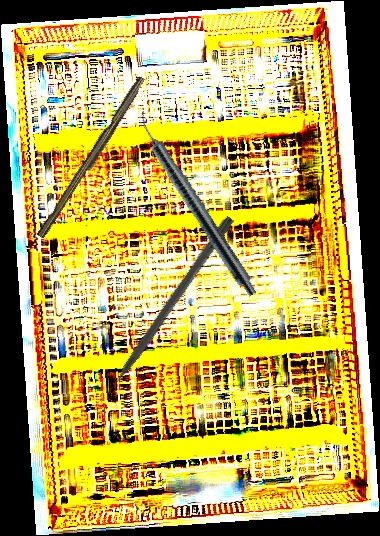Handpiece: (130, 109, 263, 299)
Pusher: (94, 213, 235, 408)
Scalpel Handle: (36, 74, 149, 242)
